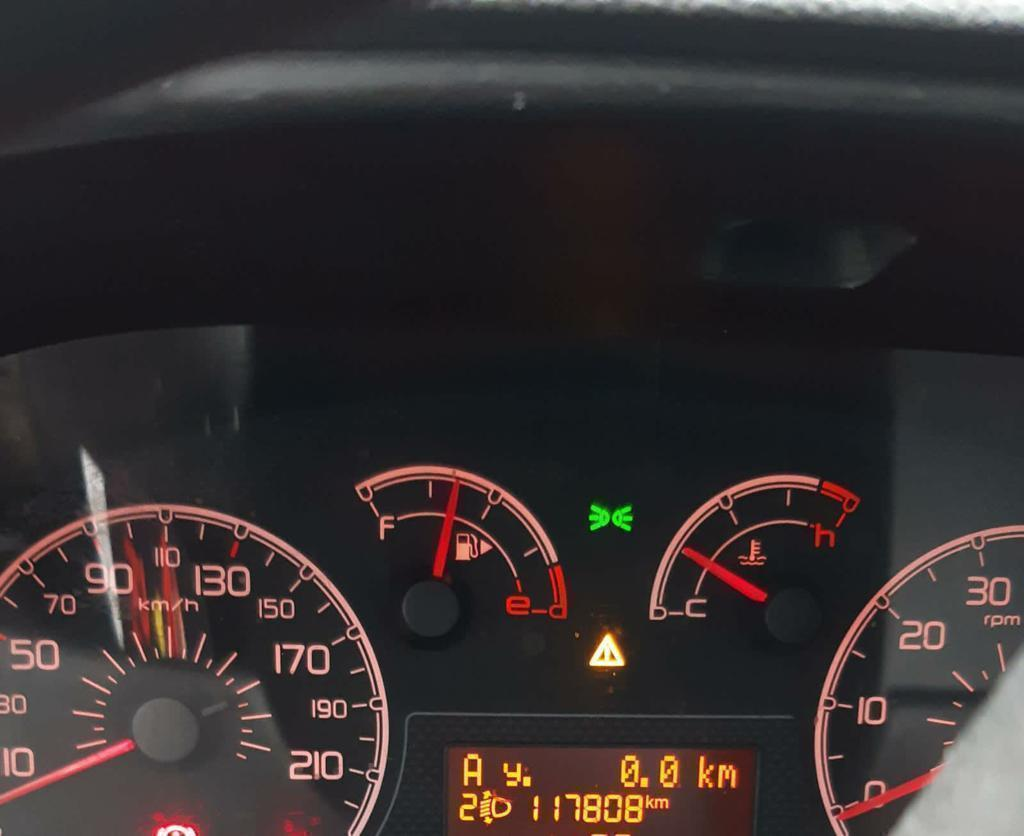,: (638, 774, 650, 790), (521, 773, 532, 788)
0: (658, 753, 682, 790), (620, 753, 638, 788), (603, 793, 621, 824)
1: (551, 792, 561, 823), (530, 792, 539, 824)
2: (459, 791, 476, 822)
7: (564, 791, 580, 822)
8: (582, 791, 601, 824), (625, 793, 643, 825)
X: (460, 752, 483, 788), (696, 754, 716, 790), (718, 762, 738, 789), (502, 762, 520, 788), (654, 796, 670, 810), (645, 793, 654, 809)
odometer: (443, 736, 761, 830)
